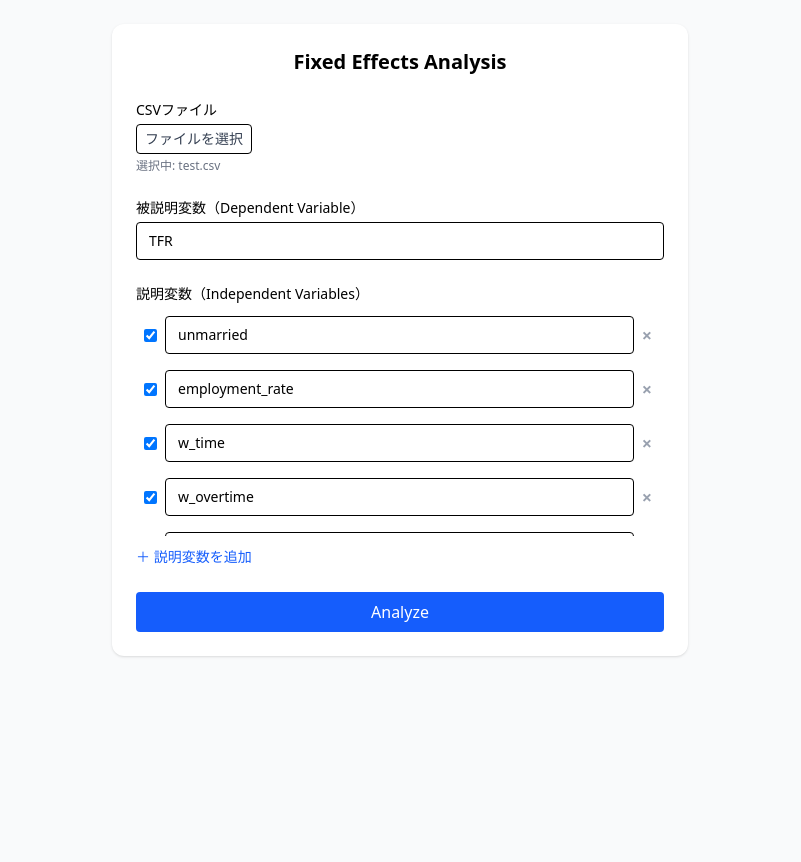
AnalysisPage - Integration Test › calls API and displays results when valid data is submitted
The image size is (801, 862).
Earlier steps of the test are not shown.
Expected: the text "選択中: test.csv" is shown, [136,157,220,174]
Click the button "Analyze" at coordinates (400, 612), box [136,592,664,632]
(page scrolled)
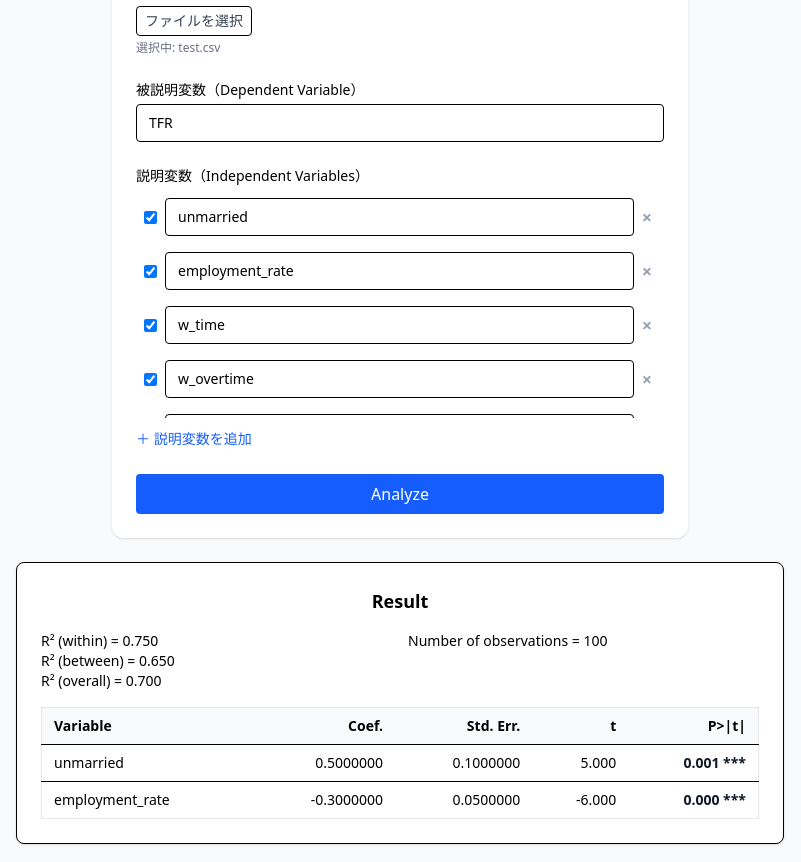
Expected: the heading "Result" is shown, [372,589,428,613]
Expected: the text "R² (within) = 0.750" is shown, [41,631,158,650]
Expected: the text "Number of observations = 100" is shown, [408,631,608,650]
